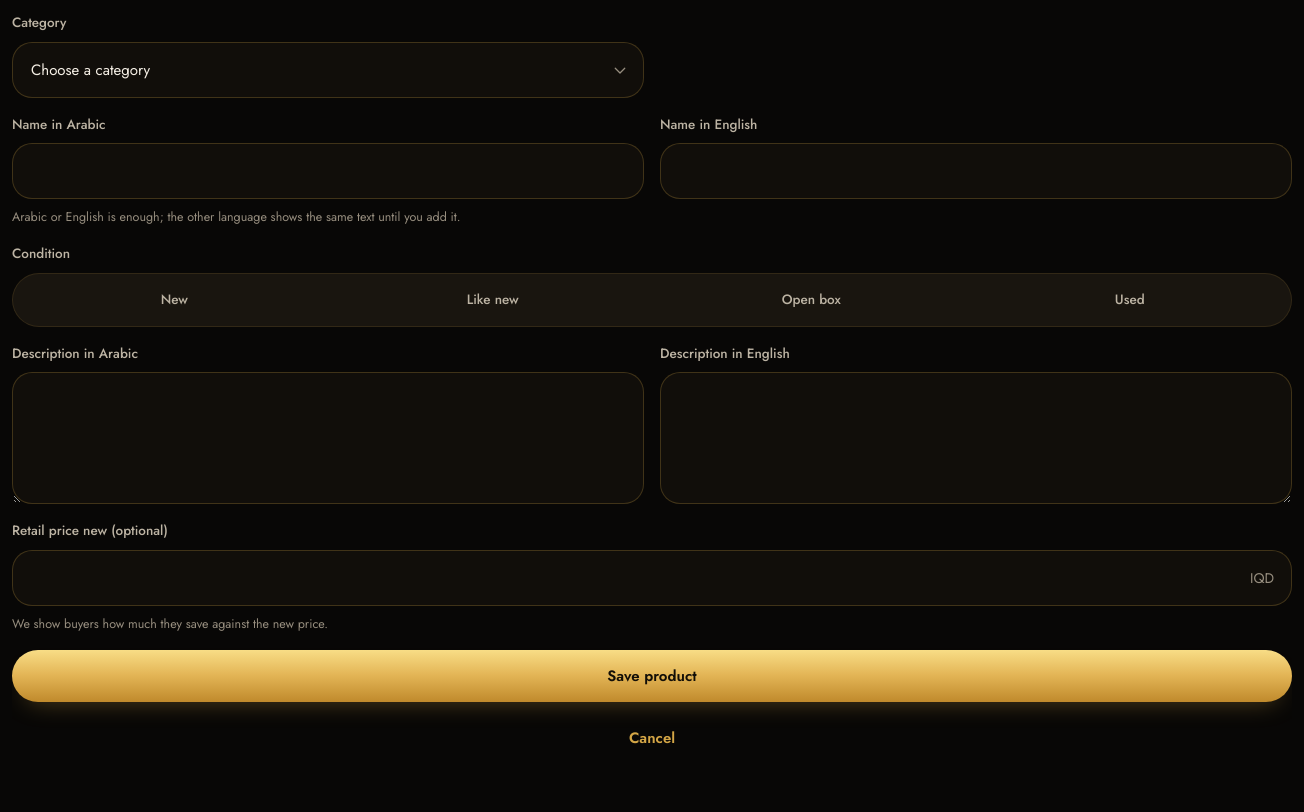
Scenario: ProductForm: new retail price › refuses decimals with a clear message and sends nothing
Select "Cameras" in the dropdown labelled "Category". click: point(328, 70)
box: [12,42,644,98]
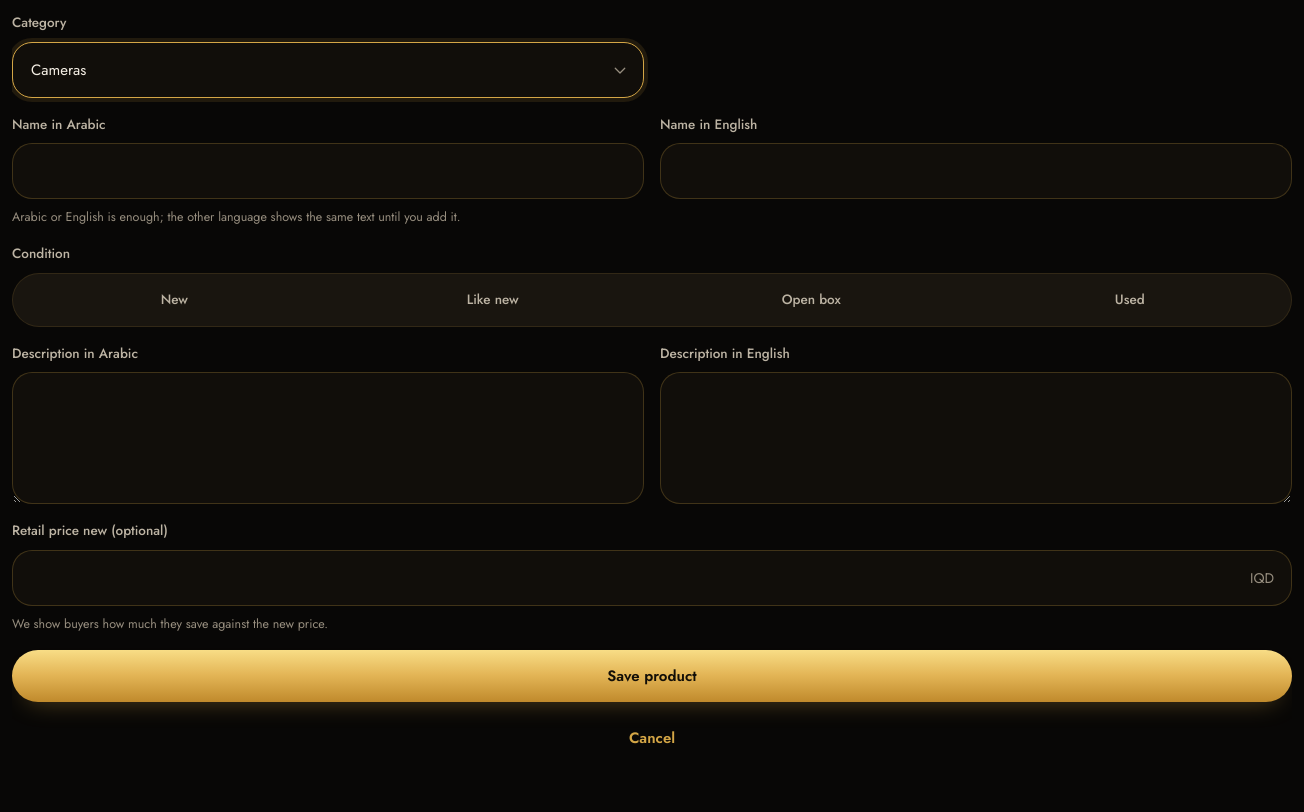
Type "Camera" into the field labelled "Name in English". click: point(976, 171)
box: [660,143,1292,199]
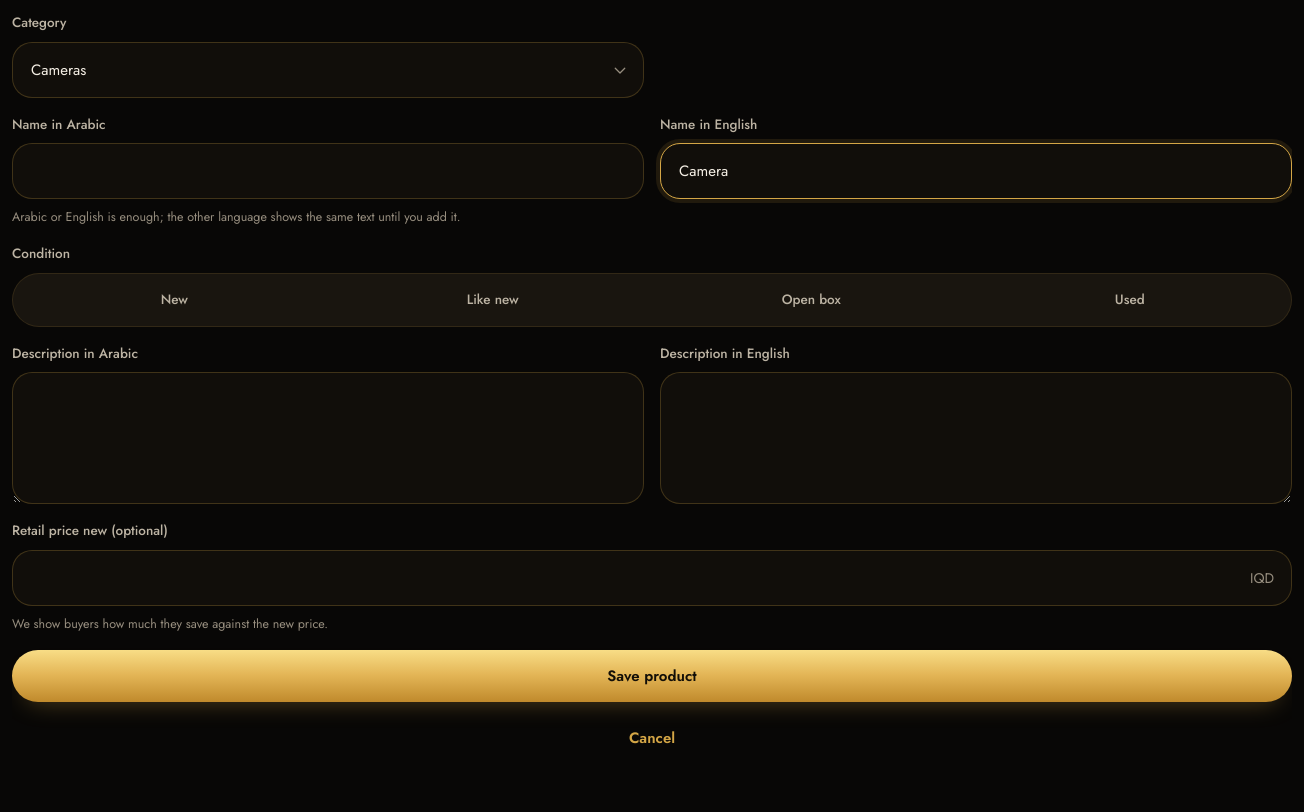
Type "Works." into the text box labelled "Description in English". click: point(976, 438)
box: [660,372,1292,504]
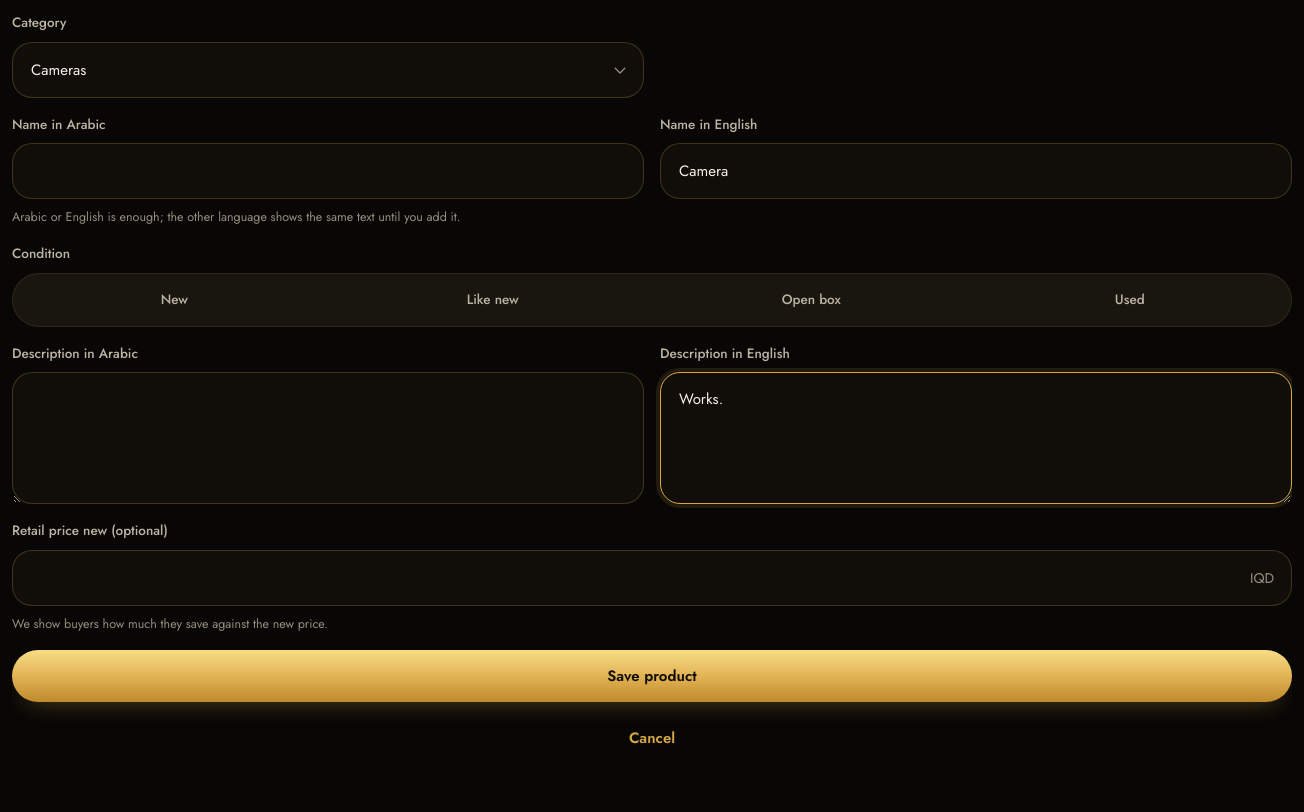
Click the radio button labelled "Like new". click: point(493, 300)
box: [467,290,519,309]
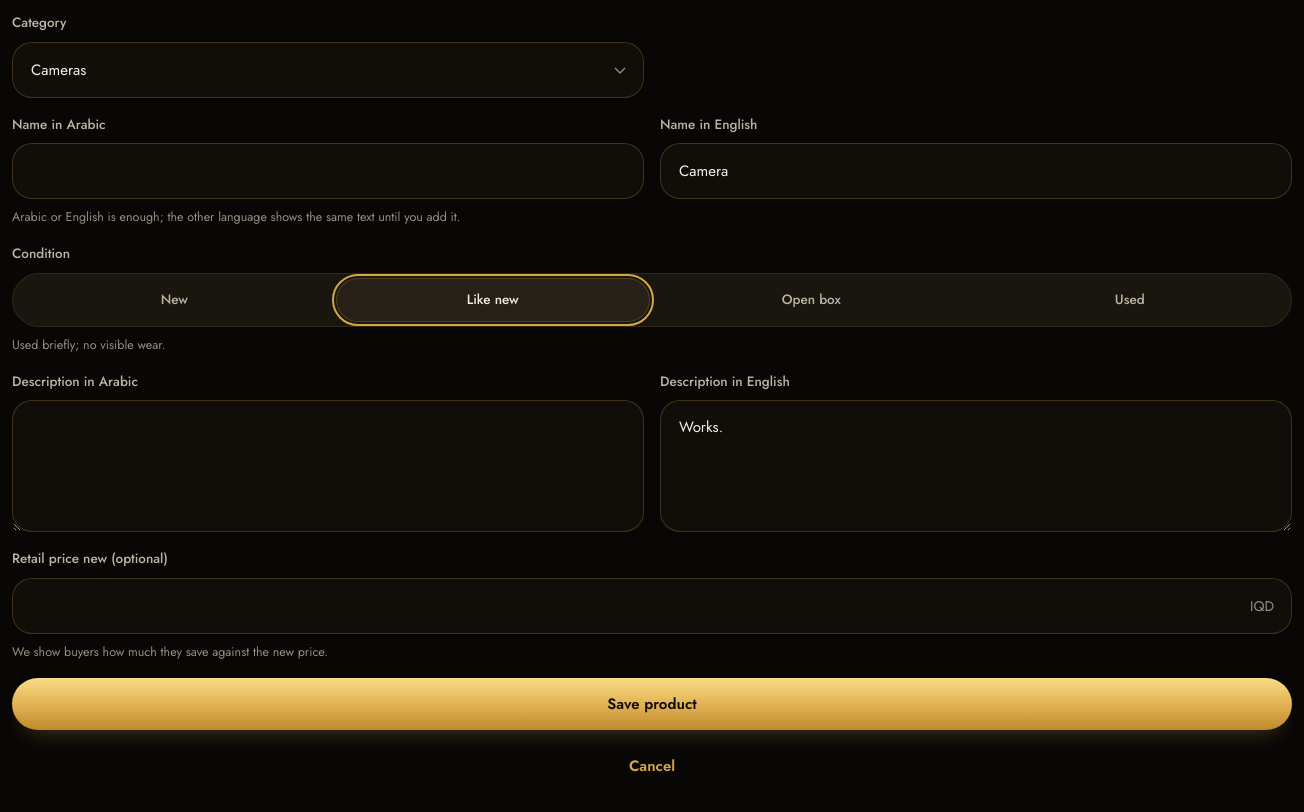
Type "1250.5" into the field labelled "Retail price new (optional)". click: point(652, 606)
box: [12,578,1292,634]
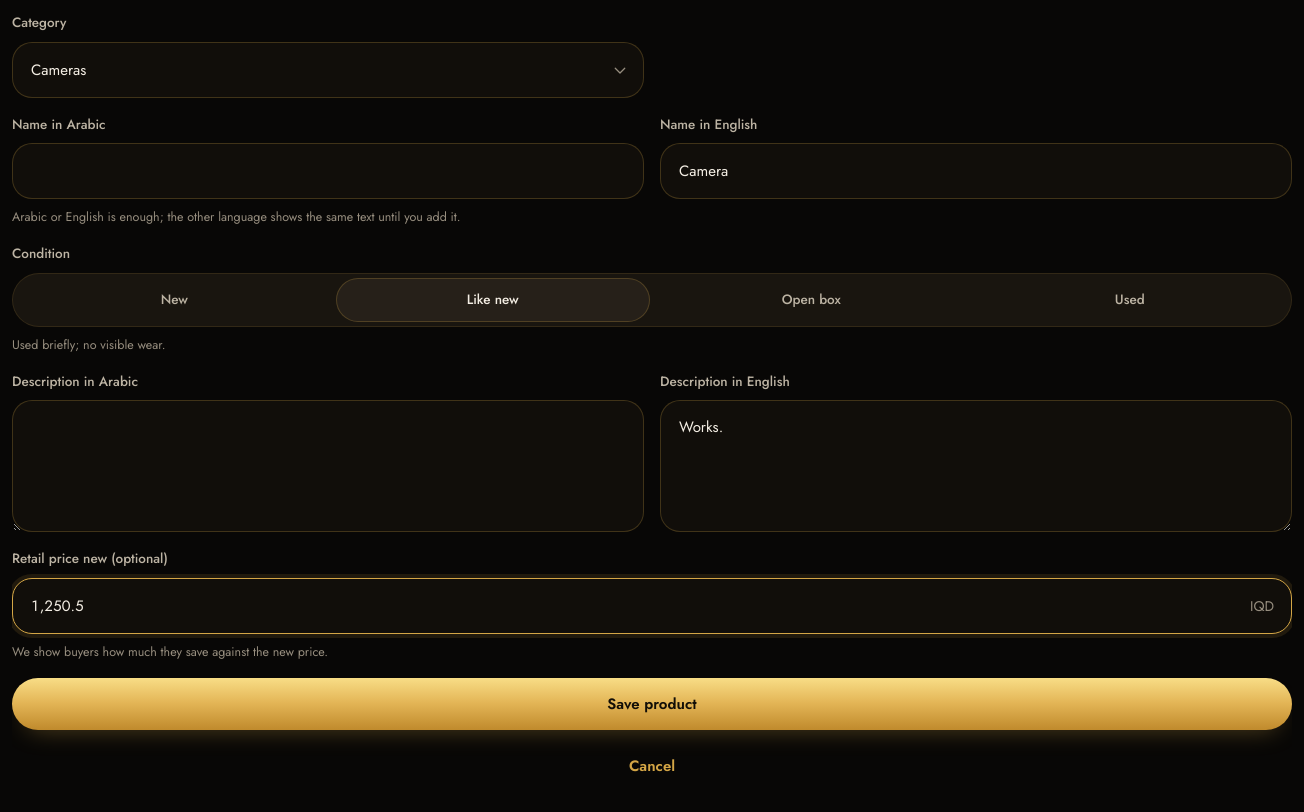
Click the button "Save product". click: point(652, 704)
box: [12,678,1292,730]
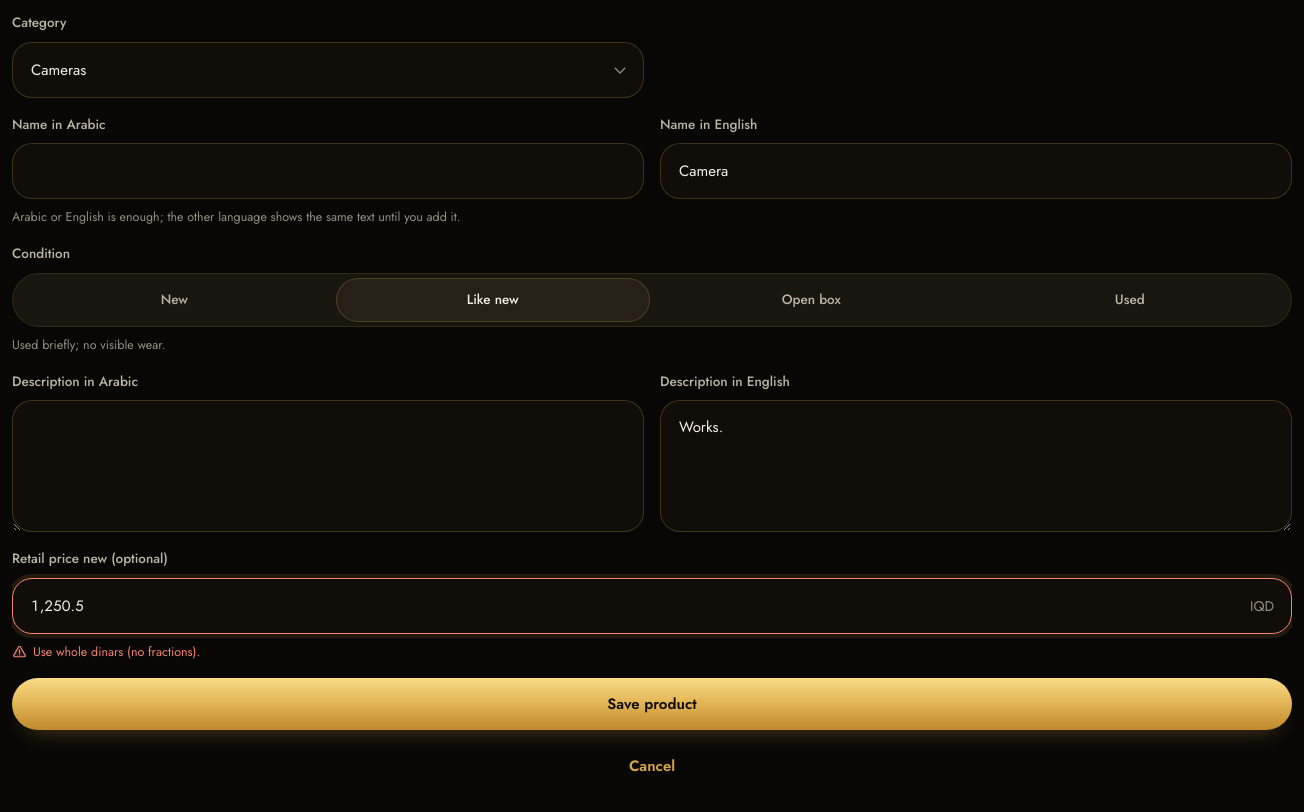
Check: the text "Use whole dinars (no fractions)." is shown, box [12,643,200,661]
